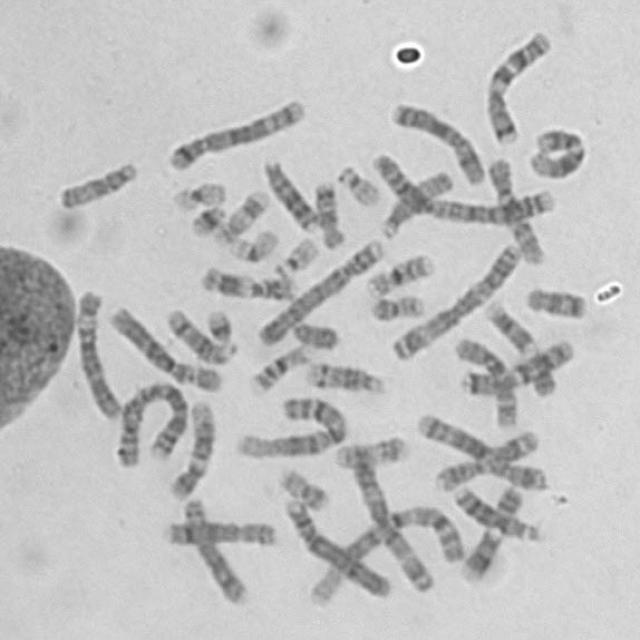A1: (301, 498, 466, 609), (229, 387, 350, 460)
A2: (364, 144, 558, 228), (108, 373, 192, 469)
A3: (385, 234, 525, 362), (343, 433, 437, 595)
B4: (250, 232, 387, 348), (276, 491, 394, 600)
B5: (411, 404, 546, 494), (160, 90, 308, 172)
C10: (478, 149, 548, 267), (447, 328, 520, 430)
C11: (429, 423, 543, 493), (193, 258, 299, 302)
C12: (162, 393, 217, 501), (520, 119, 588, 180)
C6: (100, 298, 224, 394), (68, 280, 124, 422)
C7: (477, 21, 554, 147), (454, 332, 576, 396)
C8: (176, 490, 251, 606), (157, 512, 279, 548)
C9: (478, 292, 560, 399), (454, 477, 525, 584)
D13: (447, 478, 542, 543), (254, 150, 320, 234)
D14: (158, 299, 236, 366), (299, 352, 387, 397)
D15: (374, 161, 457, 239), (50, 152, 140, 212)
E16: (242, 335, 315, 395), (359, 245, 436, 298)
E17: (207, 181, 270, 246), (327, 426, 410, 470)
E18: (306, 172, 346, 250), (518, 277, 588, 321)
F19: (165, 172, 227, 213), (221, 221, 280, 263)
F20: (271, 460, 331, 513), (364, 286, 427, 322)
G21: (198, 300, 236, 350), (183, 196, 228, 238)
G22: (330, 157, 382, 208), (268, 228, 320, 277)
X: (382, 93, 490, 187)
Y: (286, 312, 341, 350)
